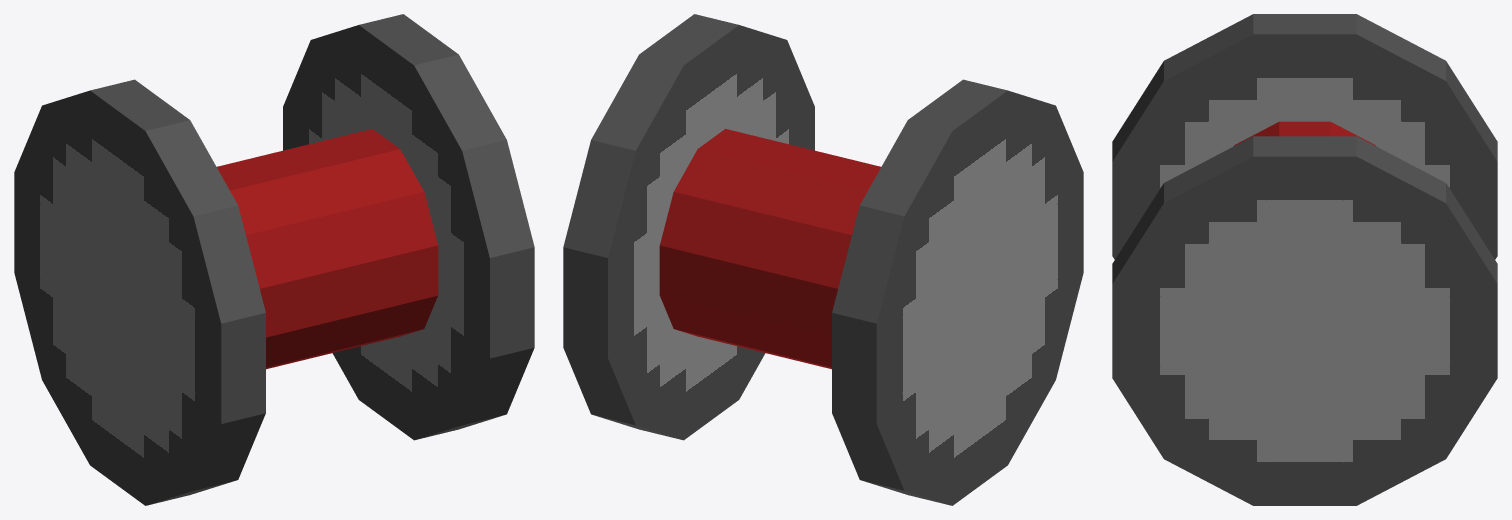
Rendered from SimpleEnemy.fbx.
The picture shows the model from 3 angles, left to right: view 1: azimuth 30°, elevation 25°; view 2: azimuth 150°, elevation 25°; view 3: azimuth 270°, elevation 25°; orthographic projection. The views are drawn at different scales.
Parts seen in each view (by area): view 1: LeftWheel, RightWheel, Hull; view 2: LeftWheel, RightWheel, Hull; view 3: RightWheel, LeftWheel, Hull.
Part boxes in pixels (x1,y1,x2,y2): LeftWheel: (14,79,265,505); RightWheel: (283,14,534,440); Hull: (217,129,438,369); LeftWheel: (832,79,1083,505); RightWheel: (563,14,814,440); Hull: (659,129,880,369); RightWheel: (1112,136,1497,505); LeftWheel: (1112,14,1497,259); Hull: (1234,121,1375,145).
Bounding box in the file's own units: 87.5 × 100 × 100.
Materials: 1 (1 with a texture image).
